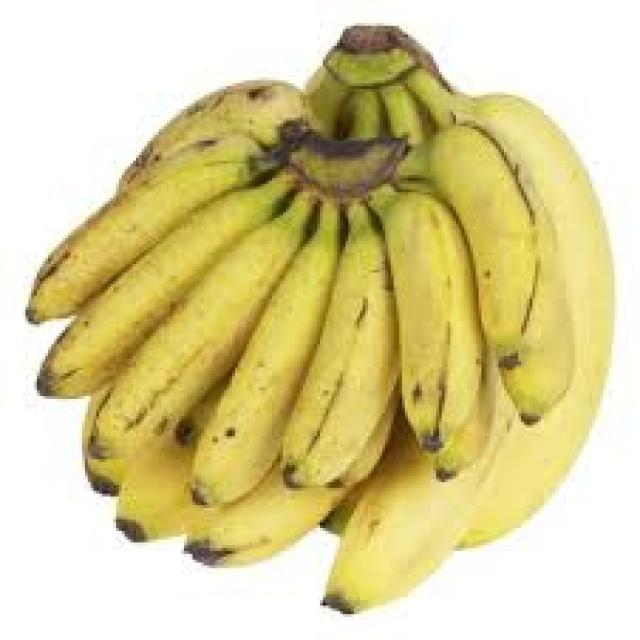banana: (22, 20, 614, 614), (29, 124, 584, 490)
